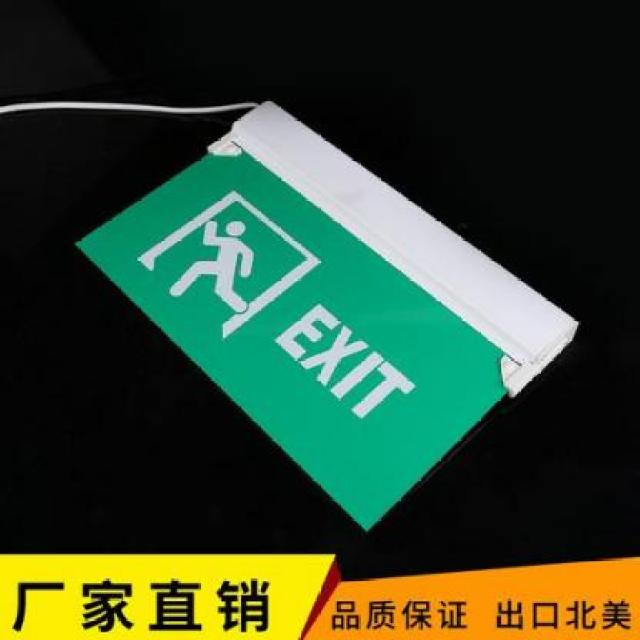exit_sign: (66, 134, 493, 543)
